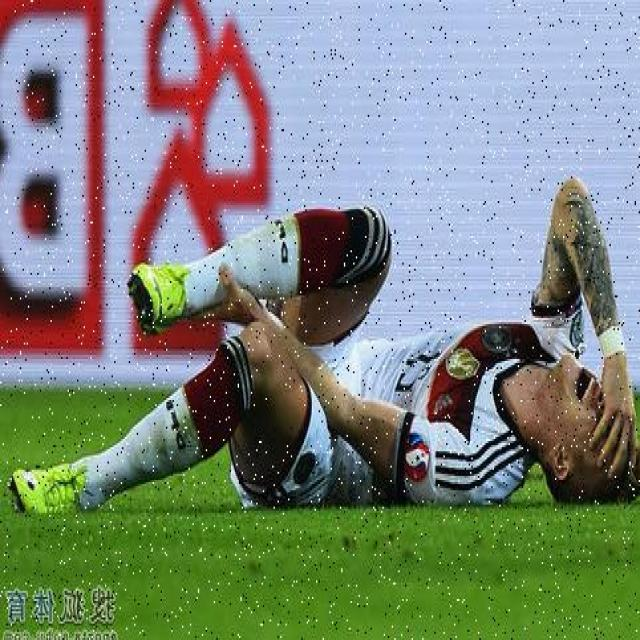fall: (33, 172, 636, 503)
